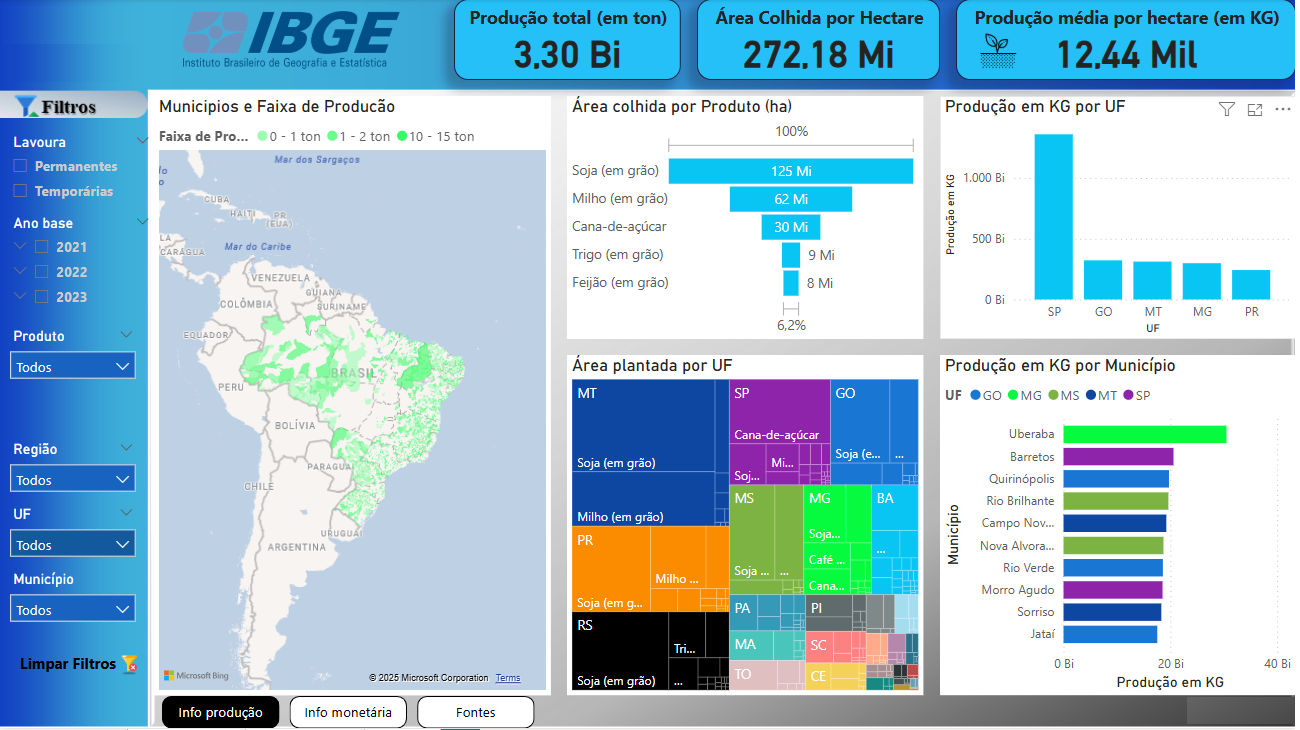

The dashboard page shown, as its layout file describes it:
{"tool":"powerbi","page":{"name":"Info produção","canvas":[1280,720],"ordinal":0},"visuals":[{"type":"card","title":"Área Colhida por Hectare","fields":{"Values":["Sum(Sheet1.Área colhida)"]},"box":[688,0,240,80],"z":0},{"type":"pageNavigator","box":[160,688,368,32],"z":1000},{"type":"slicer","fields":{"Values":["RegioesBrasil.Regiao"]},"box":[0,432,144,64],"z":2000},{"type":"actionButton","box":[288,688,112,32],"z":3000},{"type":"card","title":"Produção média por hectare (em KG)","fields":{"Values":["Avg(Sheet1.Rendimento médio por hectare)"]},"box":[944,0,336,80],"z":4000,"group":"g1"},{"type":"slicer","fields":{"Values":["Sheet1.UF"]},"box":[0,496,144,64],"z":4000},{"type":"actionButton","box":[416,688,112,32],"z":5000},{"type":"card","title":"Produção total (em ton)","fields":{"Values":["Sum(Sheet1.Producao_total_toneladass)"]},"box":[448,0,224,80],"z":6000},{"type":"slicer","fields":{"Values":["Sheet1.Nome_Município"]},"box":[0,560,144,64],"z":7000},{"type":"slicer","fields":{"Values":["Sheet1.Lavoura"]},"box":[0,128,160,96],"z":8000},{"type":"slicer","fields":{"Values":["Sheet1.Ano.1","Sheet1.Valor monetario da produção"]},"box":[0,208,160,128],"z":9000},{"type":"slicer","fields":{"Values":["Sheet1.Produto"]},"box":[0,320,144,64],"z":10000},{"type":"columnChart","title":"Produção  por UF ","fields":{"Category":["Sheet1.UF"],"Y":["Sum(Sheet1.Producao_total_toneladas)"]},"box":[928,96,352,240],"z":11000},{"type":"barChart","title":"Produção  por Município","fields":{"Category":["Sheet1.Nome_Município"],"Series":["Sheet1.UF"],"Y":["Sum(Sheet1.Producao_total_toneladas)"]},"box":[928,352,352,336],"z":12000},{"type":"image","box":[959.3,21.8,53.5,58.2],"z":13000,"group":"g1"},{"type":"actionButton","box":[16,640,112,32],"z":13000},{"type":"funnel","title":"Área colhida por Produto (ha)","fields":{"Category":["Sheet1.Produto"],"Y":["Sum(Sheet1.Área colhida)"]},"box":[560,96,352,240],"z":14000},{"type":"image","box":[112,640,32,32],"z":15000},{"type":"filledMap","fields":{"Category":["Sheet1.Municipios_UF"],"Series":["Sheet1.Faixa_Producao"]},"box":[152,96,392,592],"z":16000},{"type":"group","id":"g1","title":"Grupo 2","box":[944,0,336,80],"z":17000},{"type":"treemap","title":"Produto colhido em Tonelada","fields":{"Details":["Sheet1.Produto"],"Group":["Sheet1.UF"],"Values":["Sum(Principal.Producao_total_toneladas)"]},"box":[560,352,352,336],"z":18000},{"type":"image","box":[176,0,224,80],"z":19000}]}

Visuals, with their boxes on the page's 1280x720 design canvas (x1, y1, x2, y2). These are canvas units, not pixel positions in the 1300x730 screenshot, which may show the page scaled, cropped or inside an application window:
"Área Colhida por Hectare" card: 688, 0, 928, 80
pageNavigator: 160, 688, 528, 720
slicer - RegioesBrasil.Regiao: 0, 432, 144, 496
actionButton: 288, 688, 400, 720
"Produção média por hectare (em KG)" card: 944, 0, 1280, 80
slicer - Sheet1.UF: 0, 496, 144, 560
actionButton: 416, 688, 528, 720
"Produção total (em ton)" card: 448, 0, 672, 80
slicer - Sheet1.Nome_Município: 0, 560, 144, 624
slicer - Sheet1.Lavoura: 0, 128, 160, 224
slicer - Sheet1.Ano.1 x Sheet1.Valor monetario da produção: 0, 208, 160, 336
slicer - Sheet1.Produto: 0, 320, 144, 384
"Produção  por UF " columnChart: 928, 96, 1280, 336
"Produção  por Município" barChart: 928, 352, 1280, 688
image: 959, 22, 1013, 80
actionButton: 16, 640, 128, 672
"Área colhida por Produto (ha)" funnel: 560, 96, 912, 336
image: 112, 640, 144, 672
filledMap - Sheet1.Municipios_UF x Sheet1.Faixa_Producao: 152, 96, 544, 688
"Grupo 2" group: 944, 0, 1280, 80
"Produto colhido em Tonelada" treemap: 560, 352, 912, 688
image: 176, 0, 400, 80
